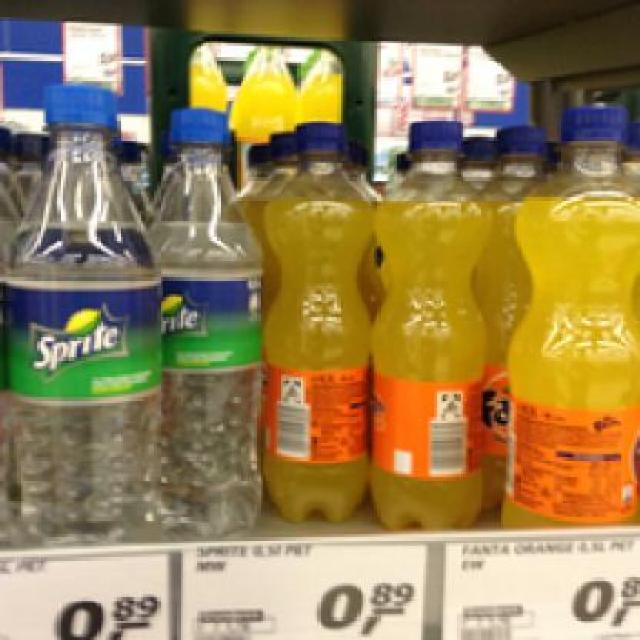Soda: (5, 80, 158, 543), (494, 103, 637, 520), (374, 117, 489, 526), (259, 117, 375, 520), (148, 103, 258, 526)
